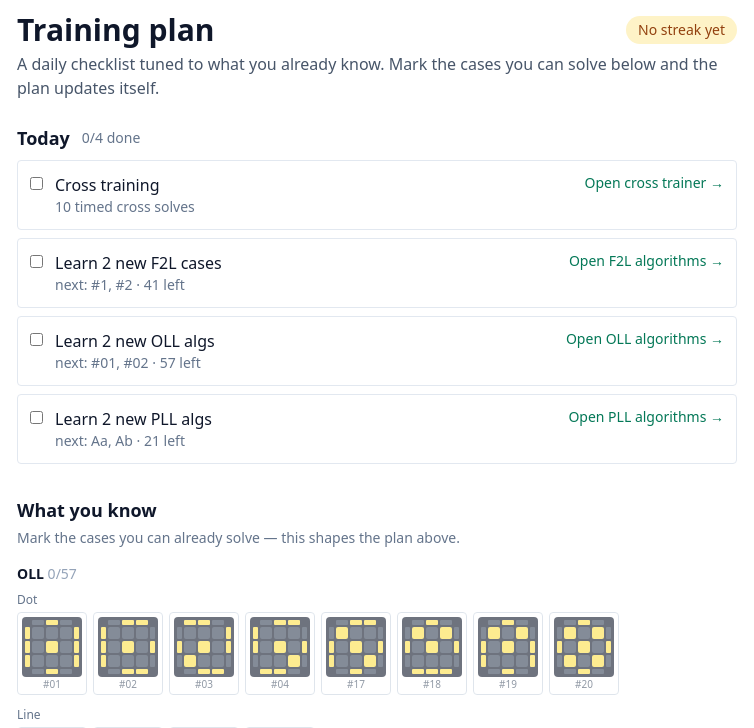
it: TrainingPlan › reshapes the plan as cases become known (next OLL to learn advances)
expect the checkbox named "learn 2 new oll" is shown: met, box [30, 333, 43, 346]
Step 1. Click the button named "OLL 01" → (52, 654), box [17, 612, 87, 695]
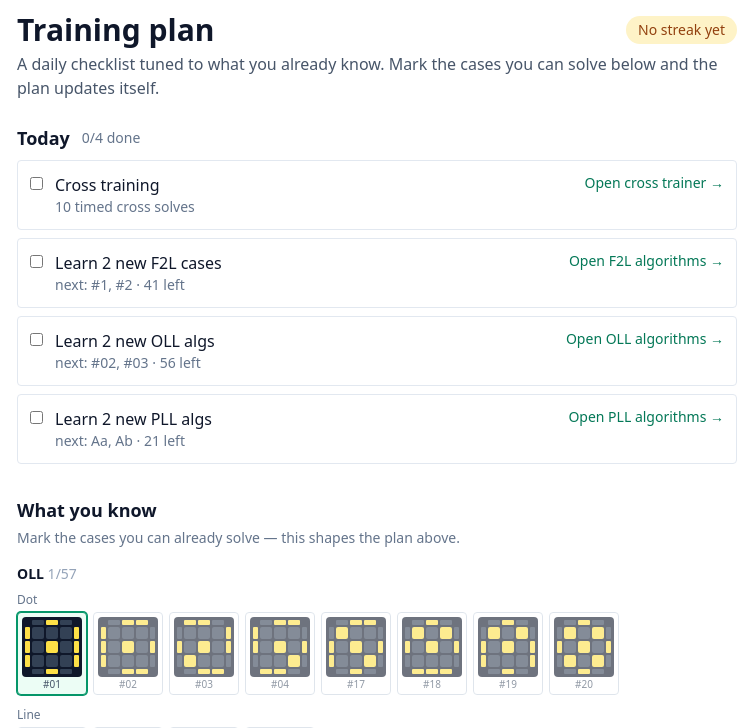
Step 2. Click the button named "OLL 02" → (128, 654), box [93, 612, 163, 695]
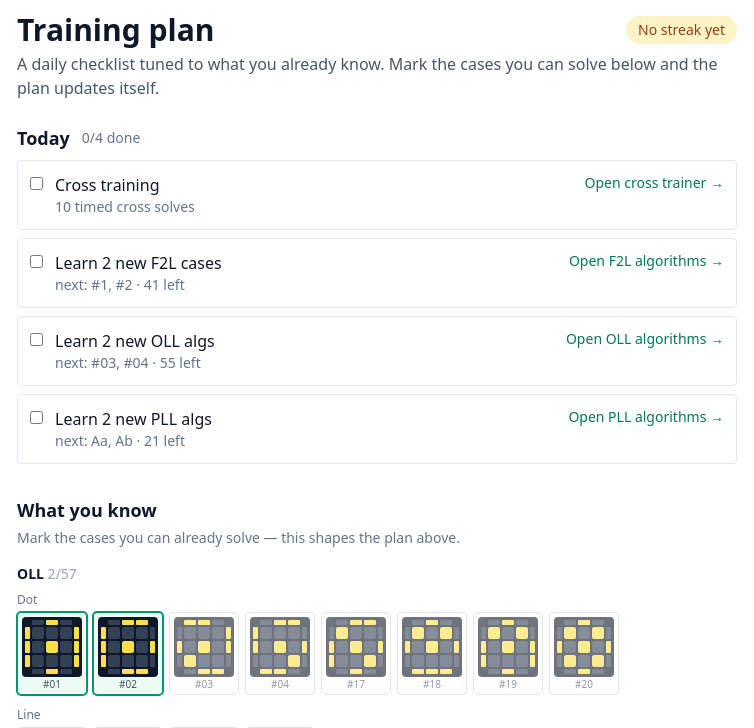
expect the text "next: #03, #04 · 55 left" is shown: met, box [55, 353, 201, 372]
